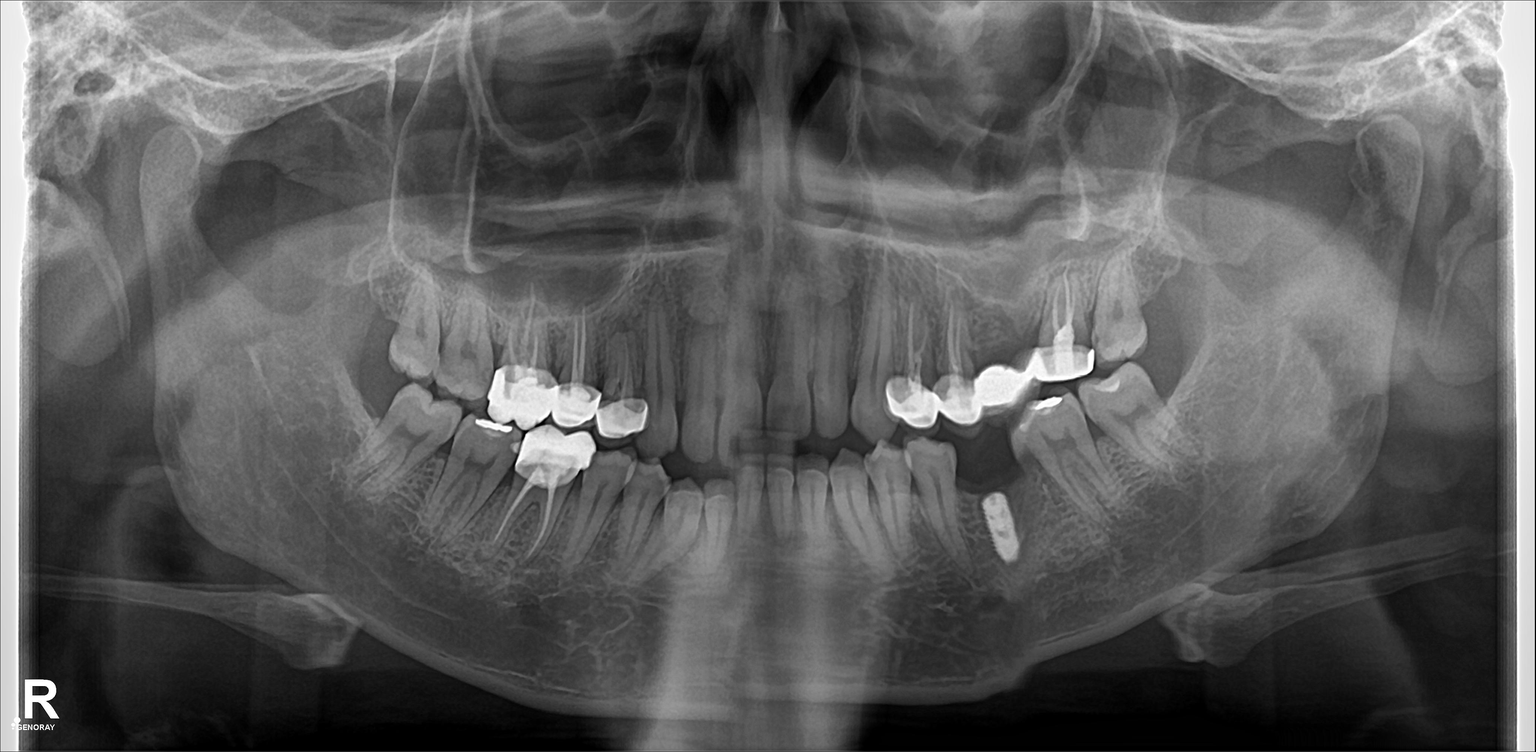Endodontically Treated Tooth: (520, 434, 578, 563), (549, 300, 606, 417), (939, 294, 989, 419), (898, 298, 942, 435), (1032, 277, 1089, 380), (496, 300, 547, 414), (985, 315, 1032, 420), (613, 320, 647, 435)
Missing Tooth: (1127, 262, 1193, 368), (359, 285, 399, 375)
Retained Root: (955, 443, 1034, 581)
